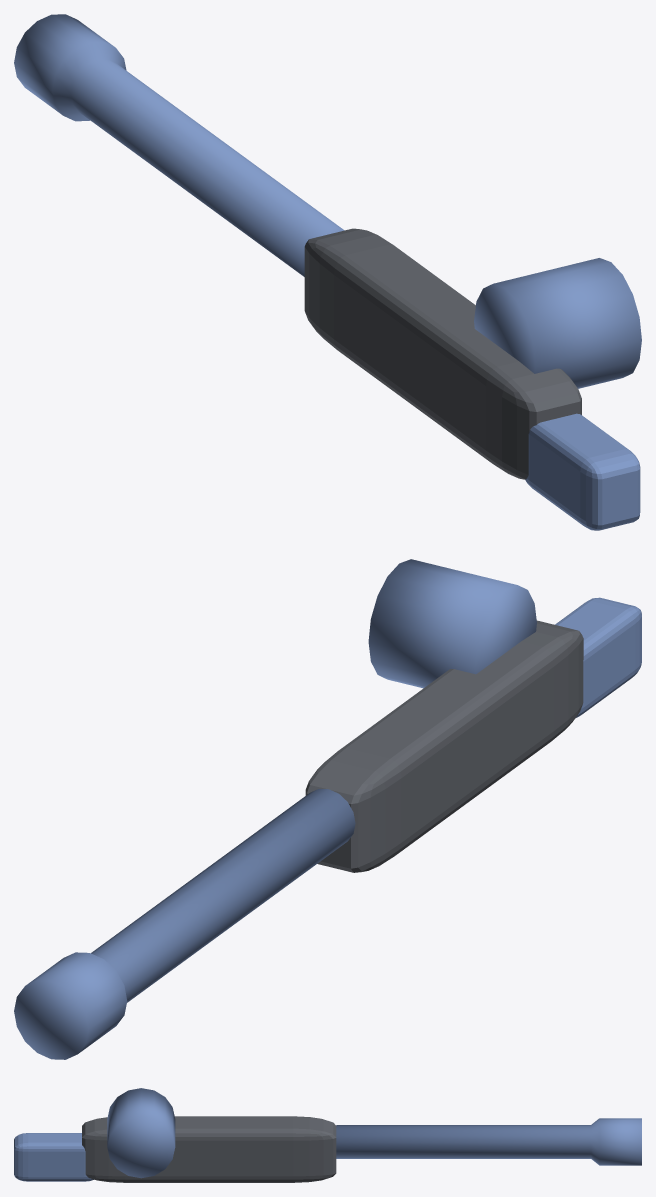
Rendered from weapon_cannon.glb.
3 views of the same model, one above another, from view 1: azimuth 30°, elevation 25°; view 2: azimuth 150°, elevation 25°; view 3: azimuth 270°, elevation 25° (orthographic). The views are drawn at different scales.
Visible parts, largest first — view 1: body, barrel, drum, stock; view 2: body, barrel, drum, stock; view 3: body, barrel, drum, stock.
Part boxes in pixels (x1,y1,x2,y2): body: (304,228,581,479); barrel: (14,14,344,276); drum: (474,258,641,388); stock: (525,413,640,530); body: (305,620,583,872); barrel: (14,789,355,1059); drum: (368,559,536,688); stock: (555,597,641,717); body: (82,1116,336,1182); barrel: (336,1118,641,1165); drum: (107,1088,175,1178); stock: (14,1133,93,1181).
Bounding box in the file's own units: 1.84 × 1.96 × 12.58.
